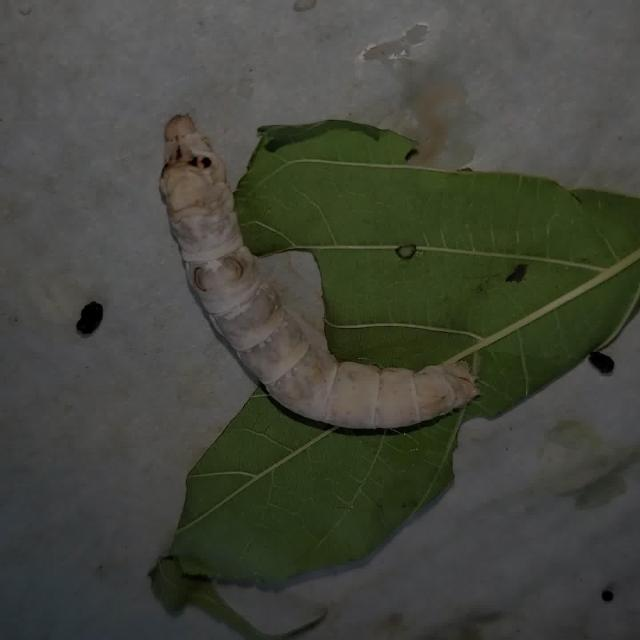Grasserie: (134, 67, 495, 464)
